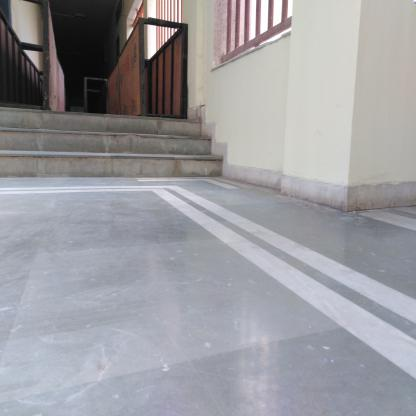stairs: (7, 117, 197, 182)
